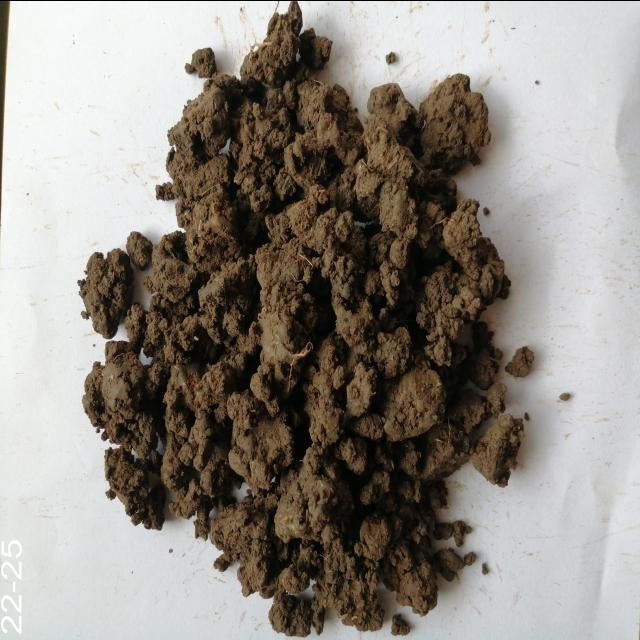soil: (122, 256, 458, 498)
